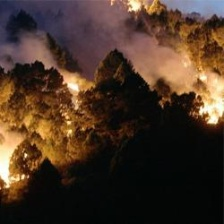fire: (188, 70, 224, 128), (1, 131, 34, 192), (57, 72, 92, 125), (119, 1, 151, 17)
